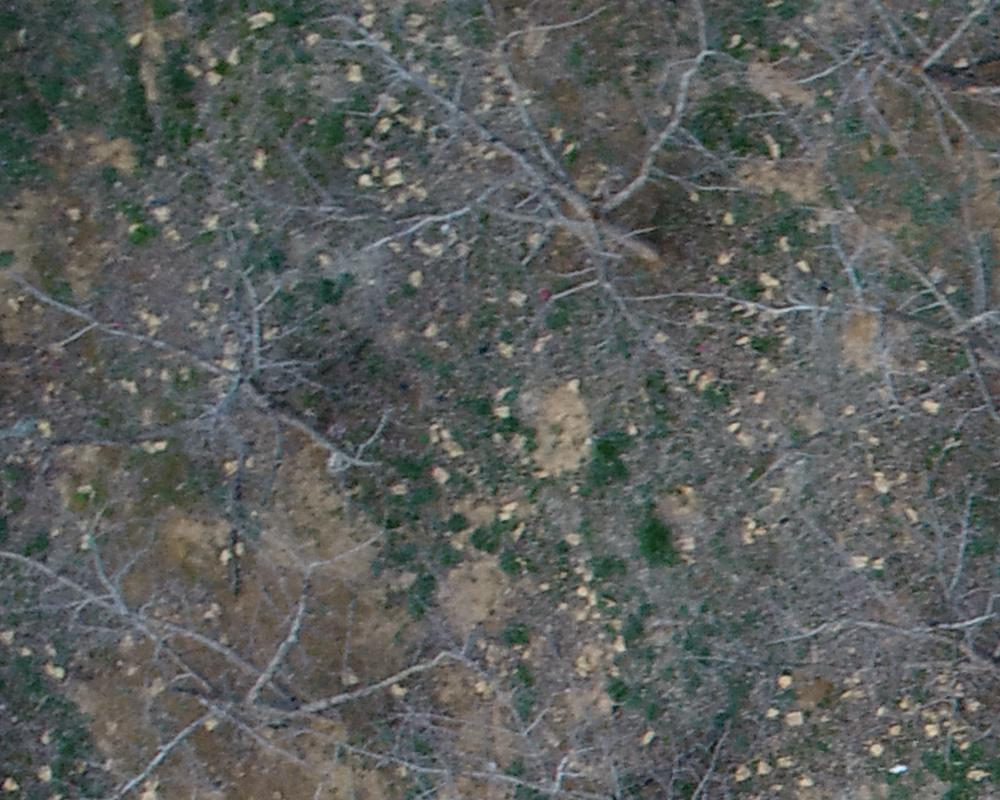apple: (291, 12, 776, 365), (13, 525, 473, 790), (717, 183, 990, 505), (24, 277, 414, 491), (770, 483, 990, 790), (353, 708, 796, 790)
